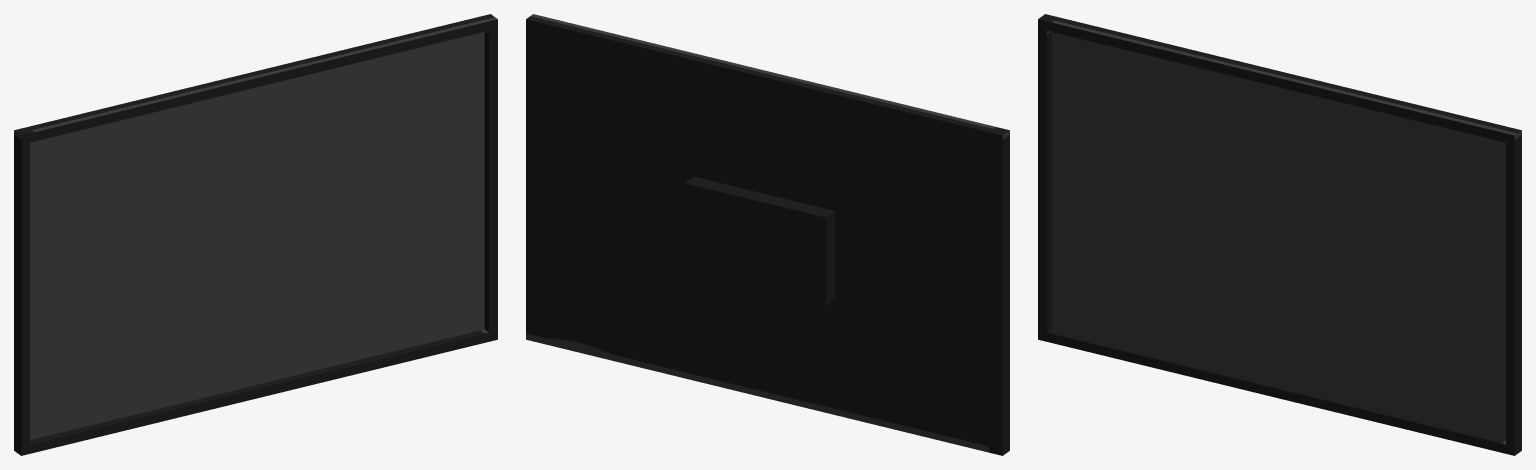
The model's file is telewizorglb.glb.
The picture shows the model from 3 angles, left to right: view 1: azimuth 30°, elevation 25°; view 2: azimuth 150°, elevation 25°; view 3: azimuth 330°, elevation 25°; orthographic projection.
Parts seen in each view (by area): view 1: Cube.049; view 2: Cube.049; view 3: Cube.049.
Part boxes in pixels (x1,y1,x2,y2): Cube.049: [14, 14, 497, 455]; Cube.049: [526, 14, 1009, 455]; Cube.049: [1038, 14, 1521, 455].
Size of the model in its own units: 4.5 by 2.89 by 0.2676.
Materials: 1 (1 with a texture image).
